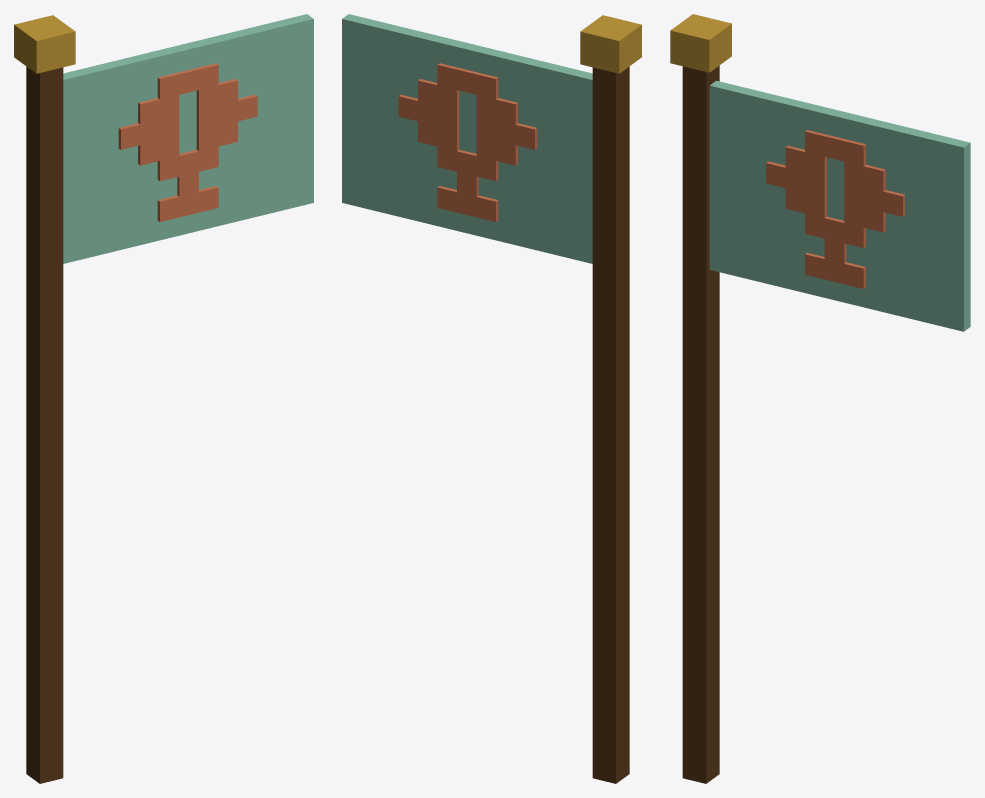
The model's file is ncb-flag-flower.glb.
The picture shows the model from 3 angles, left to right: view 1: azimuth 30°, elevation 25°; view 2: azimuth 150°, elevation 25°; view 3: azimuth 330°, elevation 25°; orthographic projection.
Parts seen in each view (by area): view 1: box-prop; view 2: box-prop; view 3: box-prop.
Part boxes in pixels (x1,y1,x2,y2): box-prop: (14,14,313,783); box-prop: (342,14,641,783); box-prop: (670,14,970,783).
Size of the model in its own units: 1.46 by 3.66 by 0.2.
